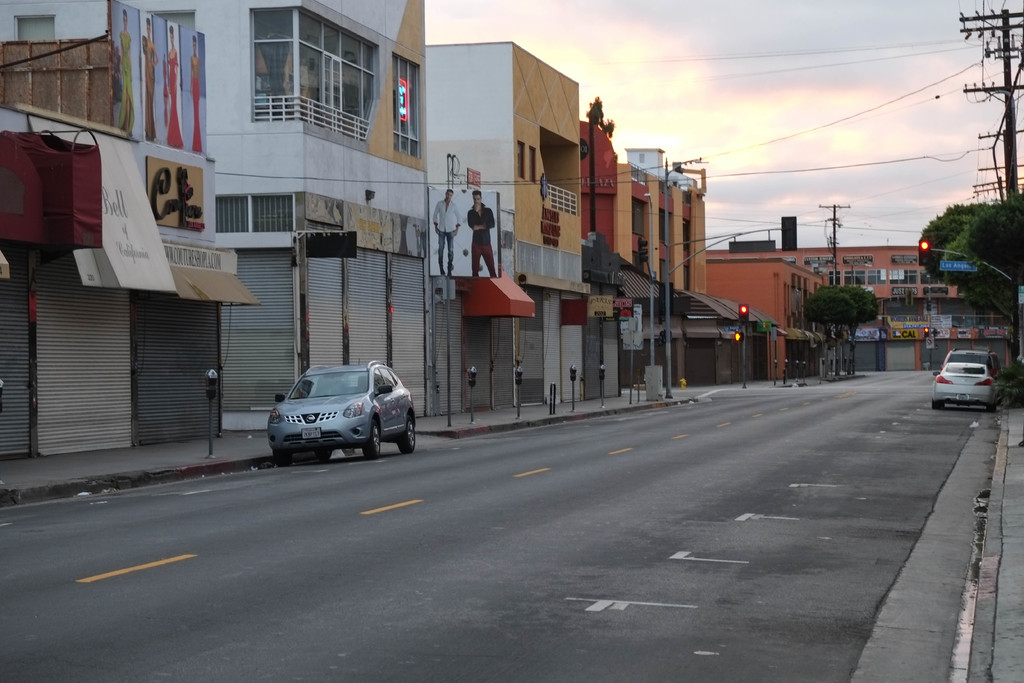Car: (266, 355, 418, 460), (929, 355, 997, 408), (940, 346, 998, 378)
